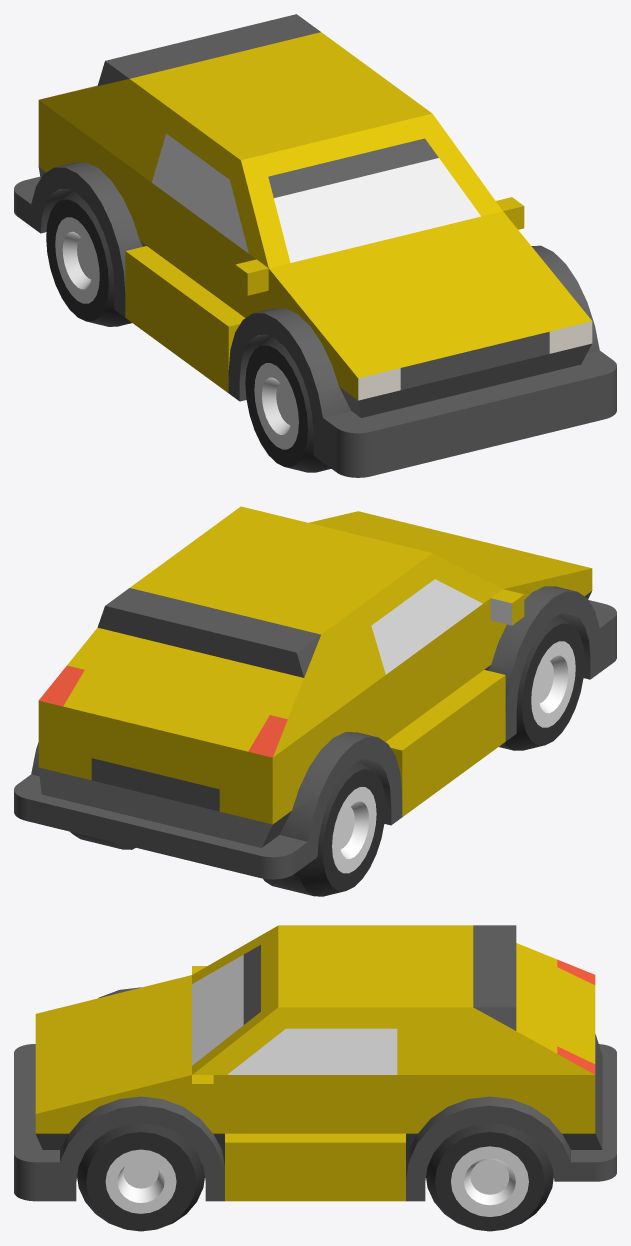
Rendered from sport_yellow.fbx.
3 renders of one model, top to bottom at view 1: azimuth 30°, elevation 25°; view 2: azimuth 150°, elevation 25°; view 3: azimuth 270°, elevation 25°, orthographic. The views are drawn at different scales.
Parts seen in each view (by area): view 1: hatchbackSports; view 2: hatchbackSports; view 3: hatchbackSports.
Part boxes in pixels (x1,y1,x2,y2): hatchbackSports: (14,14,616,477); hatchbackSports: (14,506,616,896); hatchbackSports: (14,925,616,1231).
Size of the model in its own units: 9.75 by 8.25 by 21.
